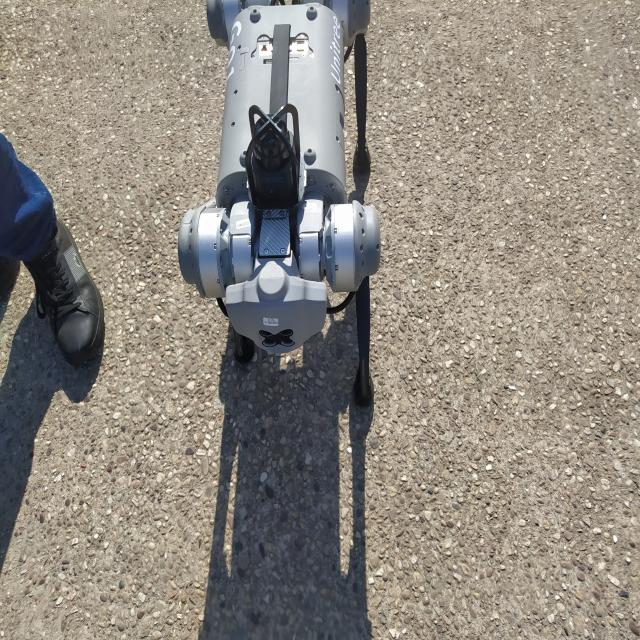unitree-go1-robot: (167, 0, 403, 432)
